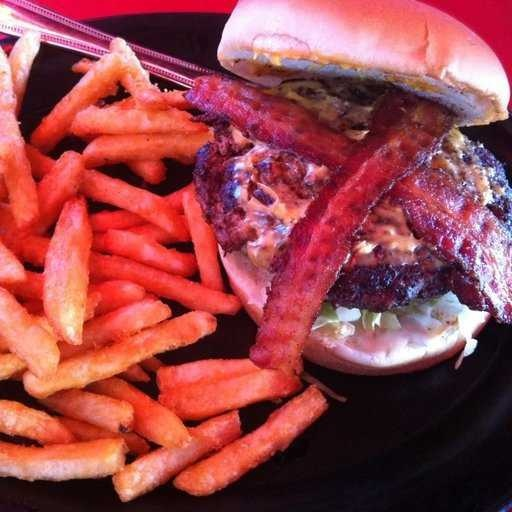hamburger: (189, 7, 505, 361)
